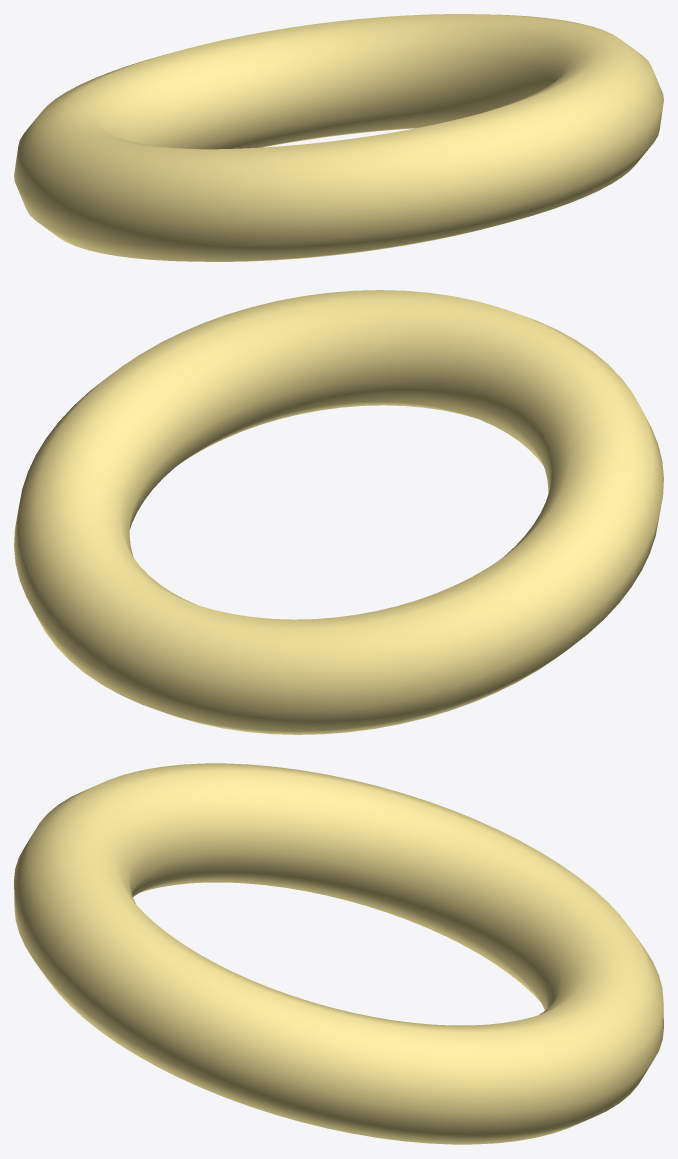
File: acc_halo_male.glb
3 renders of one model, top to bottom at view 1: azimuth 30°, elevation 25°; view 2: azimuth 150°, elevation 25°; view 3: azimuth 270°, elevation 25°, orthographic. The views are drawn at different scales.
Visible parts, largest first — view 1: halo; view 2: halo; view 3: halo.
Boxes of the visible parts, x1=… form: halo: x1=14, y1=14, x2=663, y2=261; halo: x1=14, y1=290, x2=663, y2=734; halo: x1=14, y1=763, x2=663, y2=1144.
Bounding box in the file's own units: 0.18 × 0.0669 × 0.1747.
